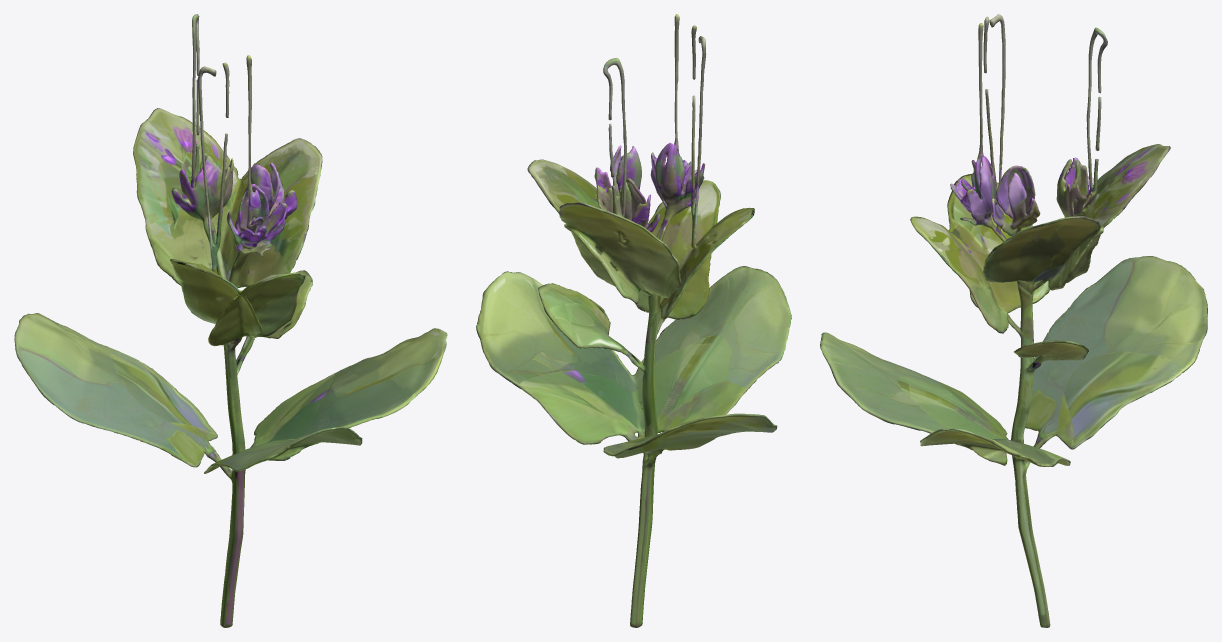
Rendered from Milkweed_Blossom_0904161934.fbx.
3 renders of one model, left to right at view 1: azimuth 30°, elevation 25°; view 2: azimuth 150°, elevation 25°; view 3: azimuth 270°, elevation 25°, orthographic.
Visible parts, largest first — view 1: Mesh_0; view 2: Mesh_0; view 3: Mesh_0.
Part boxes in pixels (<box>): Mesh_0: <box>14,14,447,627</box>; Mesh_0: <box>476,14,791,627</box>; Mesh_0: <box>820,14,1207,627</box>.
Bounding box in the file's own units: 124 × 202 × 118.
Materials: 1 (1 with a texture image).
